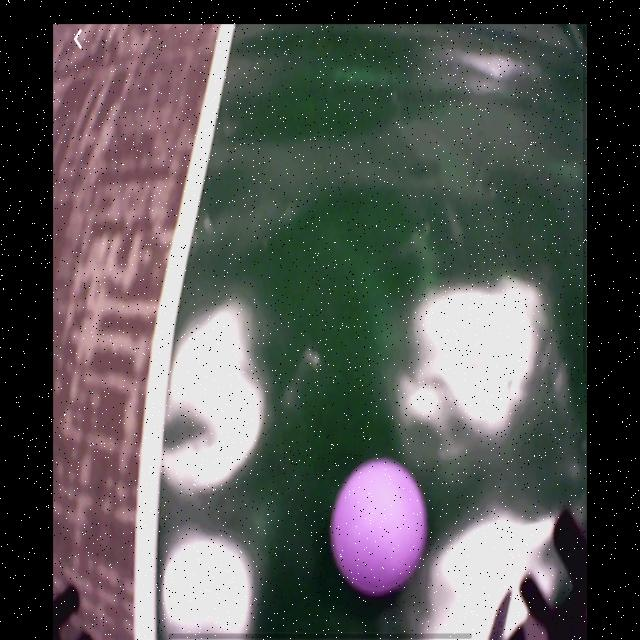ball: (329, 459, 425, 594)
